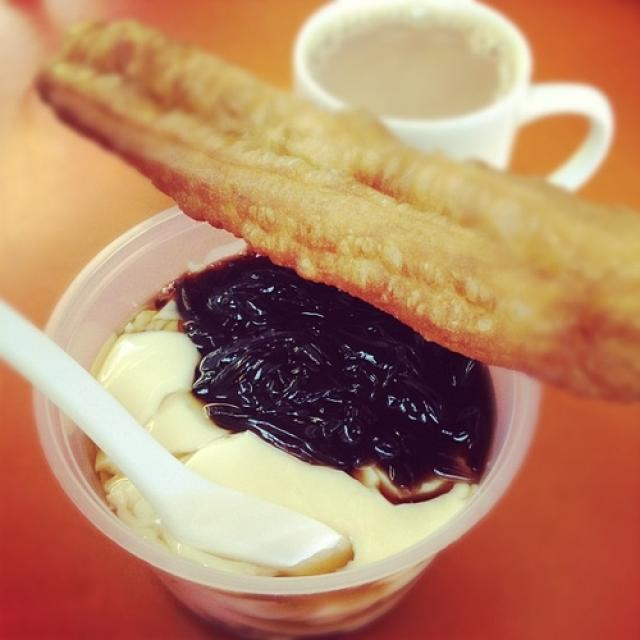炸货点心: (32, 28, 616, 547)
